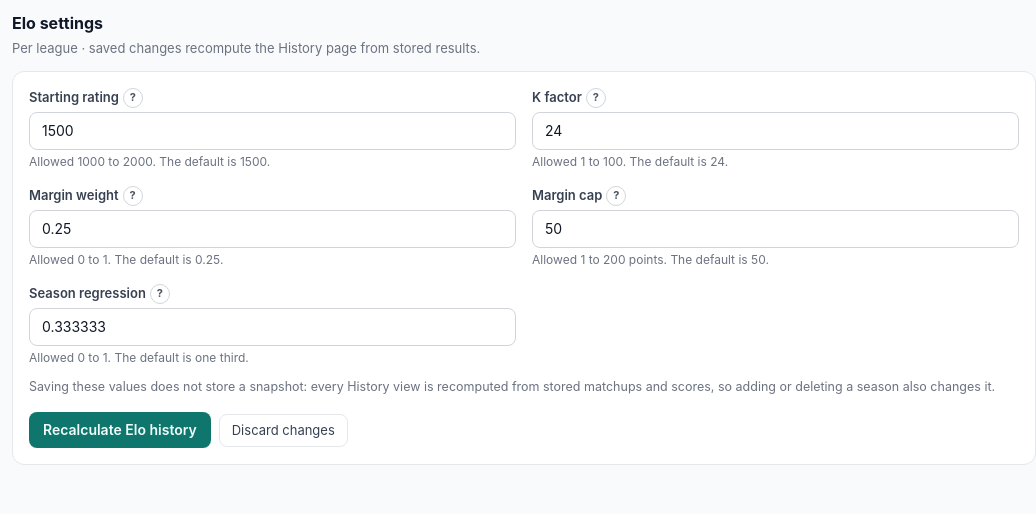
Test: EloSettingsSection › saves the values, reports success, and invalidates the history view
Expected: the field labelled "K factor" is shown, x1=532 y1=112 x2=1019 y2=150
Replace the text in the field labelled "Starting rating" with "1600" at (272, 130), box x1=29 y1=112 x2=516 y2=150
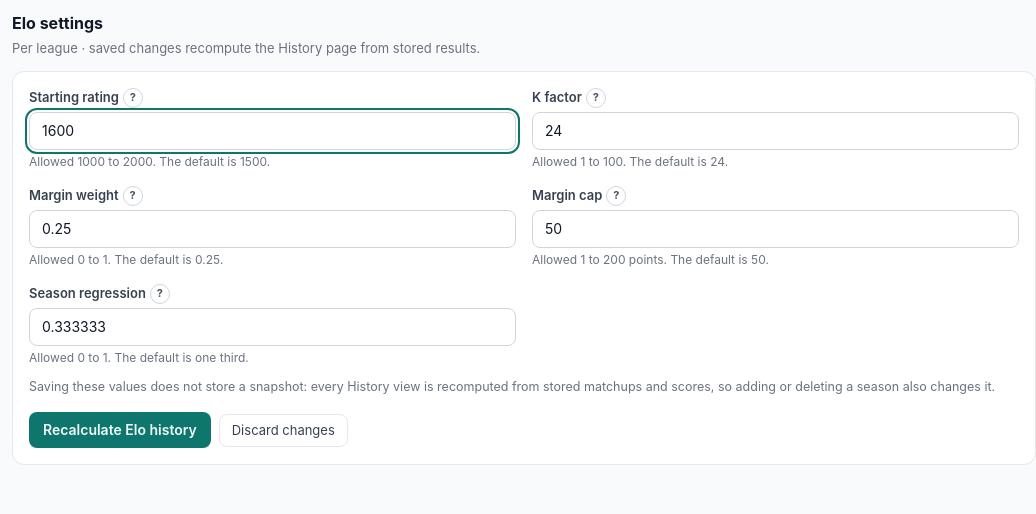
Replace the text in the field labelled "K factor" with "32" at (776, 130), box x1=532 y1=112 x2=1019 y2=150
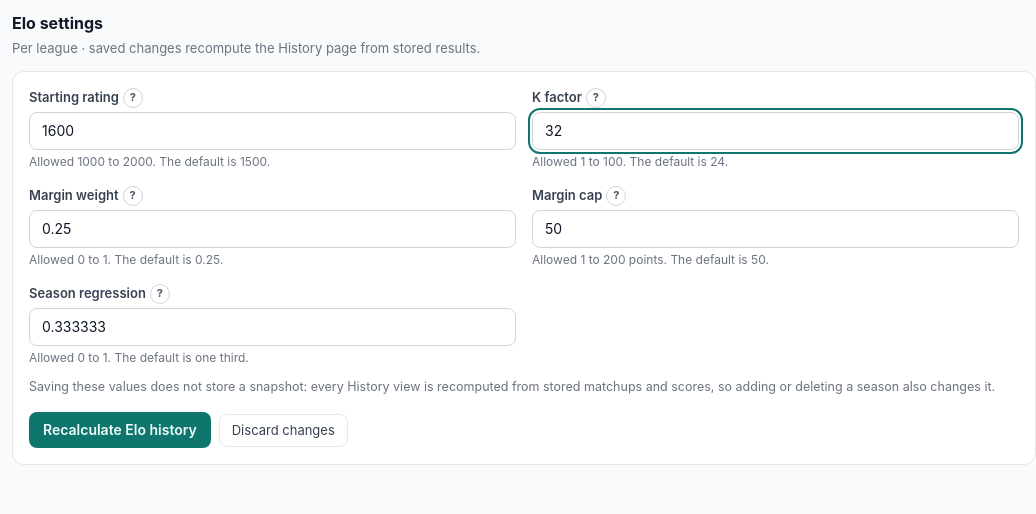
Replace the text in the field labelled "Margin weight" with "0.5" at (272, 228), box x1=29 y1=210 x2=516 y2=248
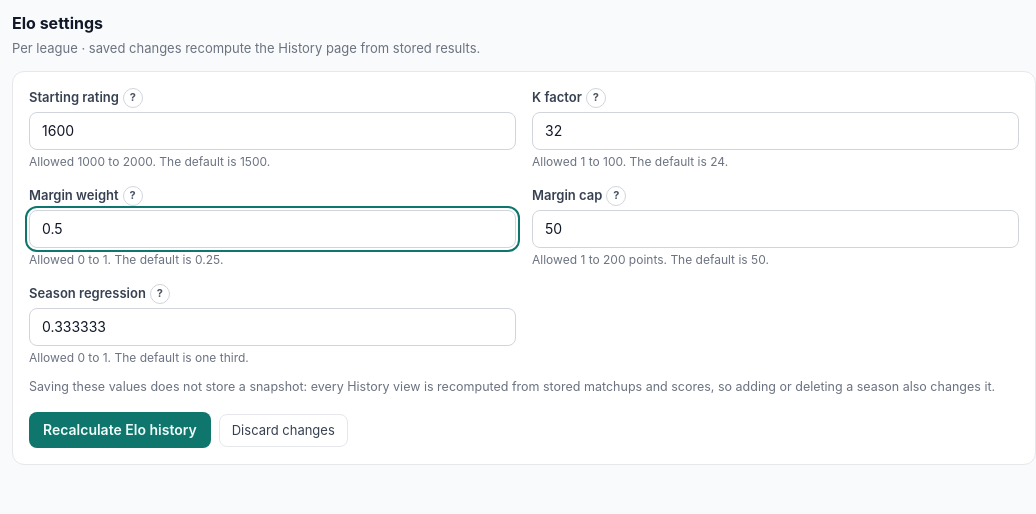
Replace the text in the field labelled "Margin cap" with "40" at (776, 228), box x1=532 y1=210 x2=1019 y2=248
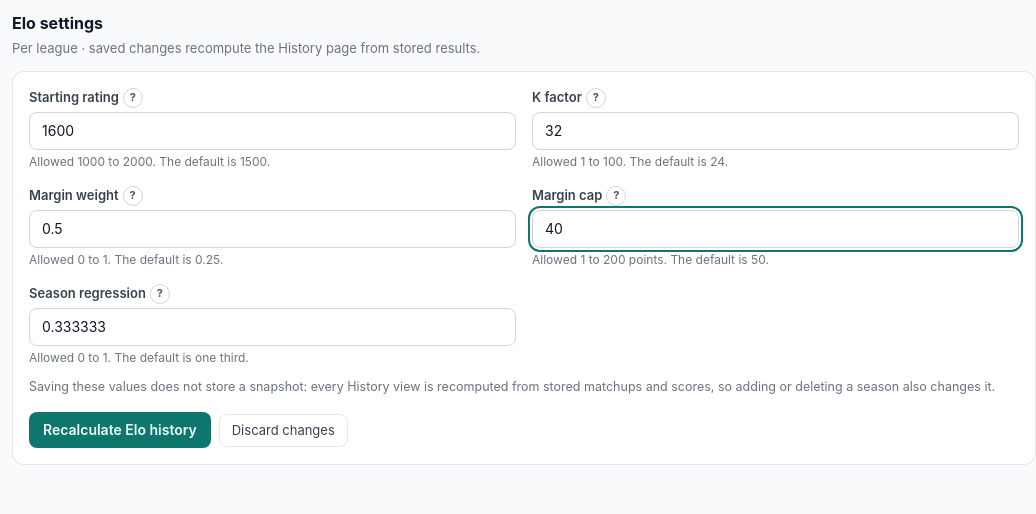
Replace the text in the field labelled "Season regression" with "0.5" at (272, 326), box x1=29 y1=308 x2=516 y2=346
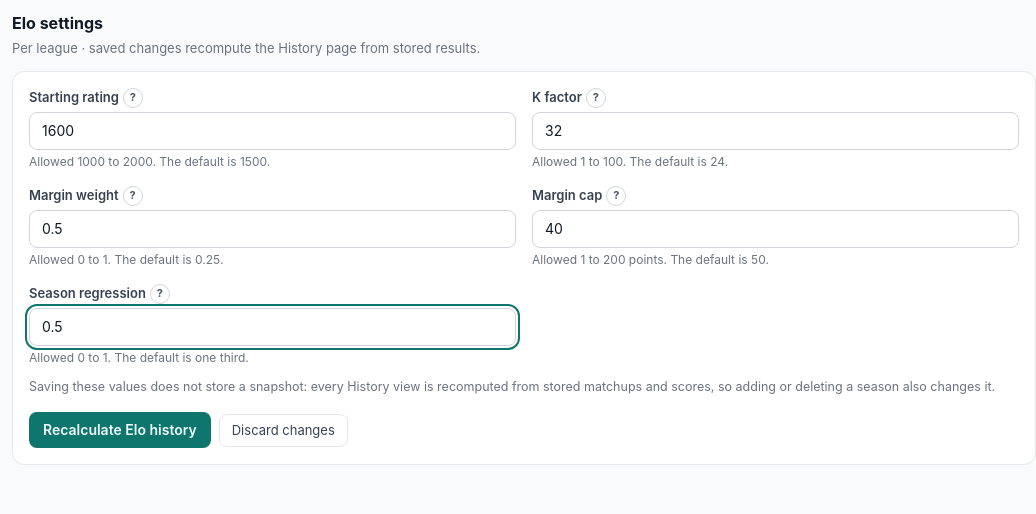
Click the button "Recalculate Elo history".
click(120, 430)  # box x1=29 y1=412 x2=211 y2=448
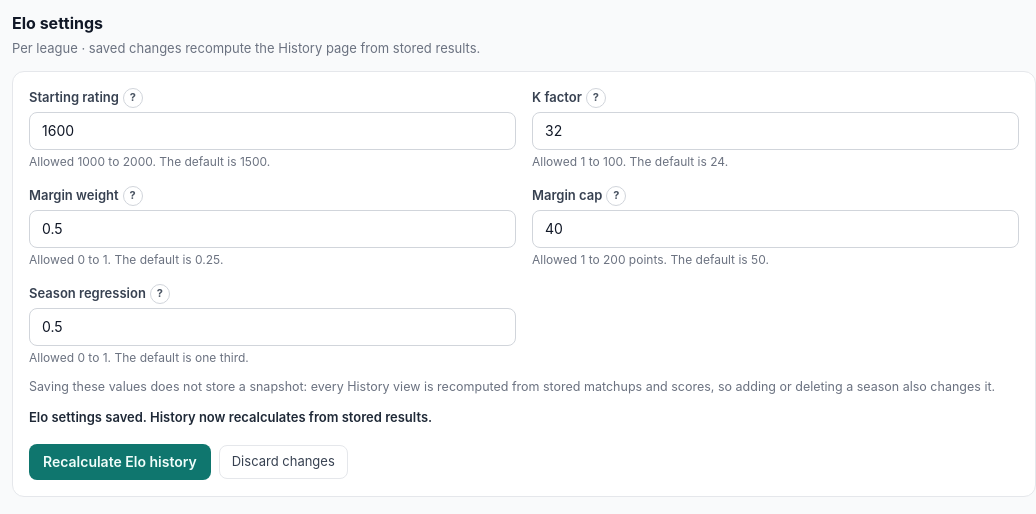
Expected: the message shows "Elo settings saved", x1=29 y1=409 x2=432 y2=425
